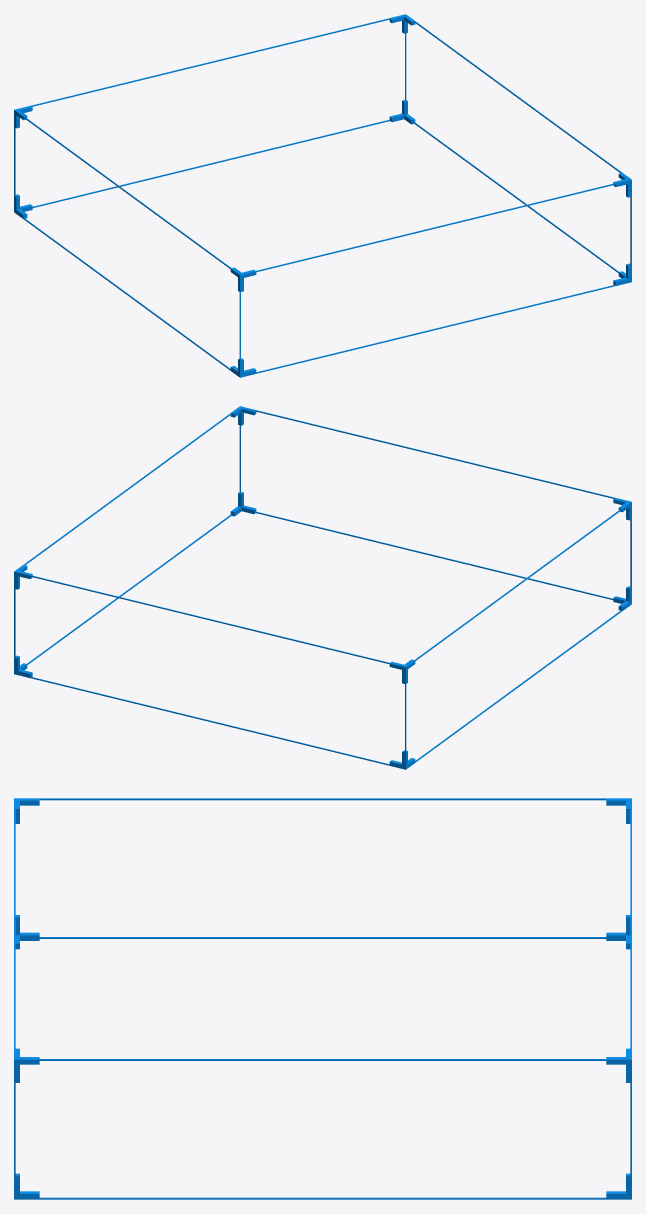
File: ASTROFISH_Block_UI_03.FBX
The picture shows the model from 3 angles, top to bottom: view 1: azimuth 30°, elevation 25°; view 2: azimuth 150°, elevation 25°; view 3: azimuth 270°, elevation 25°; orthographic projection. The views are drawn at different scales.
Parts seen in each view (by area): view 1: ASTROFISH_Block_UI_03; view 2: ASTROFISH_Block_UI_03; view 3: ASTROFISH_Block_UI_03.
Boxes of the visible parts, x1=… form: ASTROFISH_Block_UI_03: x1=14, y1=14, x2=631, y2=377; ASTROFISH_Block_UI_03: x1=14, y1=406, x2=631, y2=769; ASTROFISH_Block_UI_03: x1=14, y1=798, x2=631, y2=1199.
Bounding box in the file's own units: 6 × 1.5 × 5.99.
